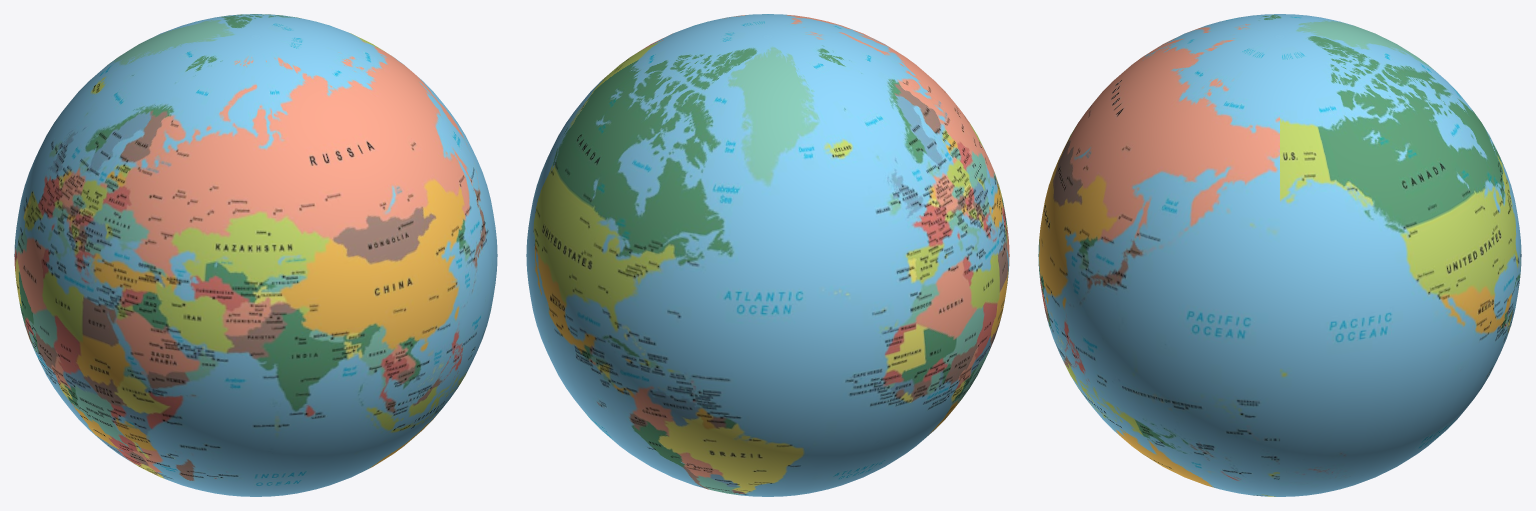
The model's file is globe.glb.
The picture shows the model from 3 angles, left to right: view 1: azimuth 30°, elevation 25°; view 2: azimuth 150°, elevation 25°; view 3: azimuth 270°, elevation 25°; orthographic projection.
Parts seen in each view (by area): view 1: Sphere; view 2: Sphere; view 3: Sphere.
Part boxes in pixels (left/top/right/bottom): Sphere: left=14, top=14, right=497, bottom=496; Sphere: left=526, top=14, right=1009, bottom=496; Sphere: left=1038, top=14, right=1521, bottom=496.
Bounding box in the file's own units: 0.5861 × 0.5861 × 0.5861.
Materials: 1 (1 with a texture image).
